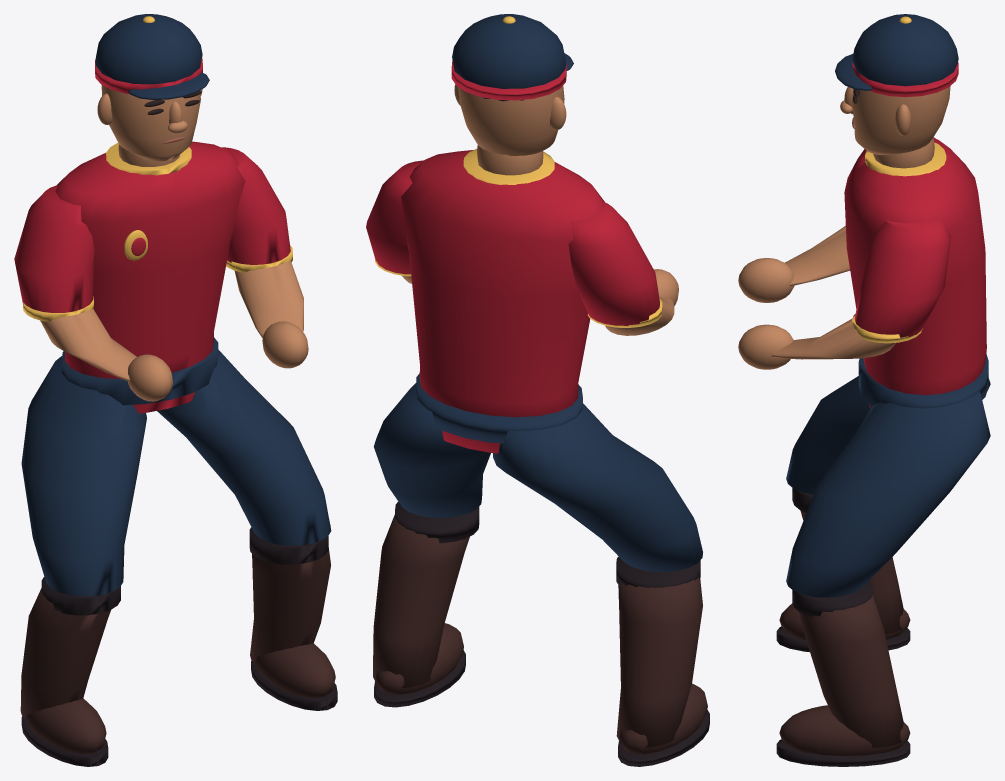
File: rider-kok-boru.glb
3 views of the same model, side by side, from view 1: azimuth 30°, elevation 25°; view 2: azimuth 150°, elevation 25°; view 3: azimuth 270°, elevation 25° (orthographic). The views are drawn at different scales.
Parts seen in each view (by area): view 1: Riding trousers (×2), Competition jersey, Boot shaft (×2), Short sleeve (×2), Forearm (×2), Boot vamp (×2), Padded riding cap, Face, Rein hand (×2), Boot cuff (×2), Waistband, Boot sole (×2) (+3 smaller); view 2: Competition jersey, Riding trousers (×2), Boot shaft (×2), Short sleeve (×2), Padded riding cap, Face, Boot vamp (×2), Waistband, Boot cuff (×2), Boot sole (×2), Cap binding, Neck (+3 smaller); view 3: Riding trousers (×2), Competition jersey, Boot shaft (×2), Short sleeve, Padded riding cap, Forearm (×2), Face, Boot vamp (×2), Rein hand (×2), Boot sole (×2), Waistband, Boot cuff (+5 smaller).
Part boxes in pixels (bbox=[...]): Riding trousers (×2): bbox=[21, 349, 331, 596]; Competition jersey: bbox=[55, 141, 245, 413]; Boot shaft (×2): bbox=[20, 548, 330, 719]; Short sleeve (×2): bbox=[14, 147, 290, 312]; Forearm (×2): bbox=[40, 261, 303, 381]; Boot vamp (×2): bbox=[25, 643, 335, 753]; Padded riding cap: bbox=[95, 14, 202, 84]; Face: bbox=[101, 85, 200, 161]; Rein hand (×2): bbox=[128, 321, 308, 401]; Boot cuff (×2): bbox=[41, 527, 328, 615]; Waistband: bbox=[61, 337, 218, 405]; Boot sole (×2): bbox=[21, 660, 337, 766]; Competition jersey: bbox=[400, 150, 605, 453]; Riding trousers (×2): bbox=[373, 383, 702, 571]; Boot shaft (×2): bbox=[373, 514, 702, 747]; Short sleeve (×2): bbox=[366, 160, 659, 325]; Padded riding cap: bbox=[452, 14, 566, 101]; Face: bbox=[459, 85, 564, 155]; Boot vamp (×2): bbox=[375, 623, 707, 754]; Waistband: bbox=[416, 373, 582, 443]; Boot cuff (×2): bbox=[395, 501, 700, 587]; Boot sole (×2): bbox=[374, 650, 709, 766]; Cap binding: bbox=[451, 60, 566, 100]; Neck: bbox=[477, 145, 543, 175]; Riding trousers (×2): bbox=[786, 376, 990, 597]; Competition jersey: bbox=[844, 138, 986, 408]; Boot shaft (×2): bbox=[799, 510, 903, 747]; Short sleeve: bbox=[854, 217, 950, 337]; Padded riding cap: bbox=[852, 14, 958, 86]; Forearm (×2): bbox=[771, 225, 895, 359]; Face: bbox=[852, 86, 950, 155]; Boot vamp (×2): bbox=[779, 603, 910, 755]; Rein hand (×2): bbox=[738, 258, 794, 369]; Boot sole (×2): bbox=[776, 626, 910, 766]; Waistband: bbox=[858, 354, 988, 408]; Boot cuff: bbox=[792, 580, 872, 616].
Bounding box in the file's own units: 0.71 × 1.58 × 0.528.
